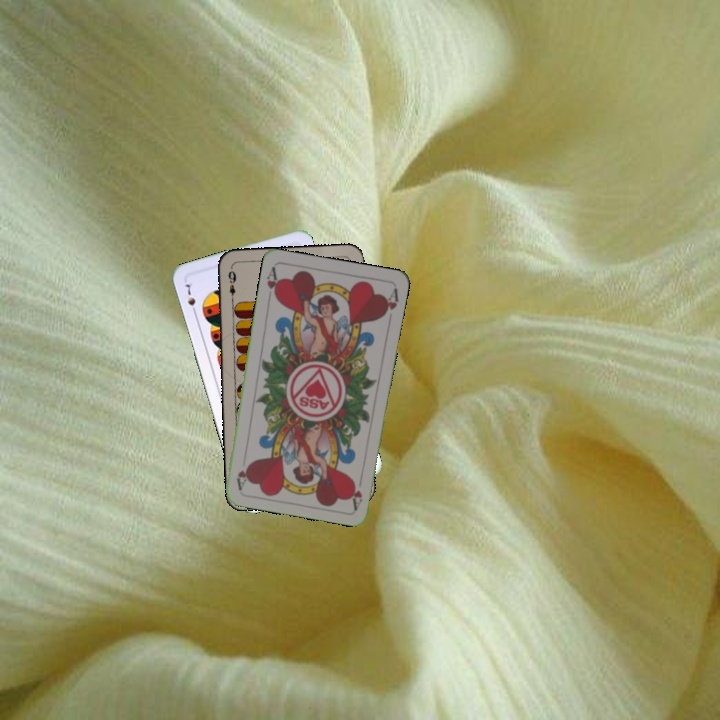E9: (224, 265, 238, 305)
HA: (263, 263, 283, 303), (347, 470, 365, 510)
S7: (181, 279, 199, 318)
